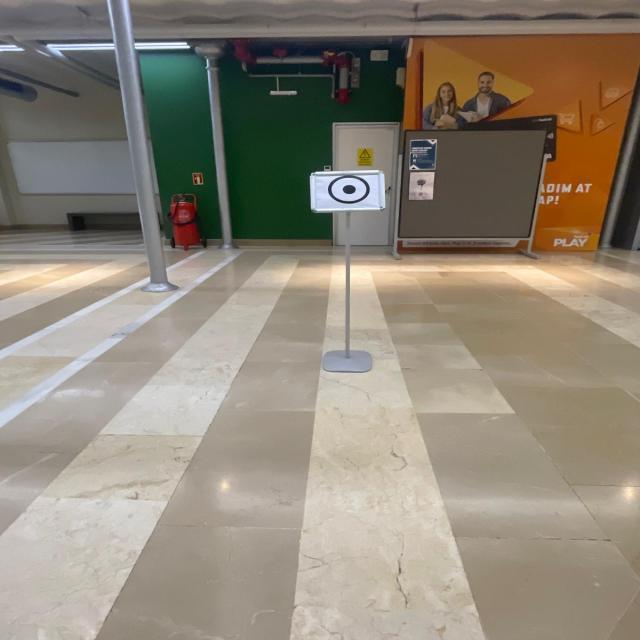Target: (297, 163, 400, 217)
inner: (338, 180, 362, 200)
